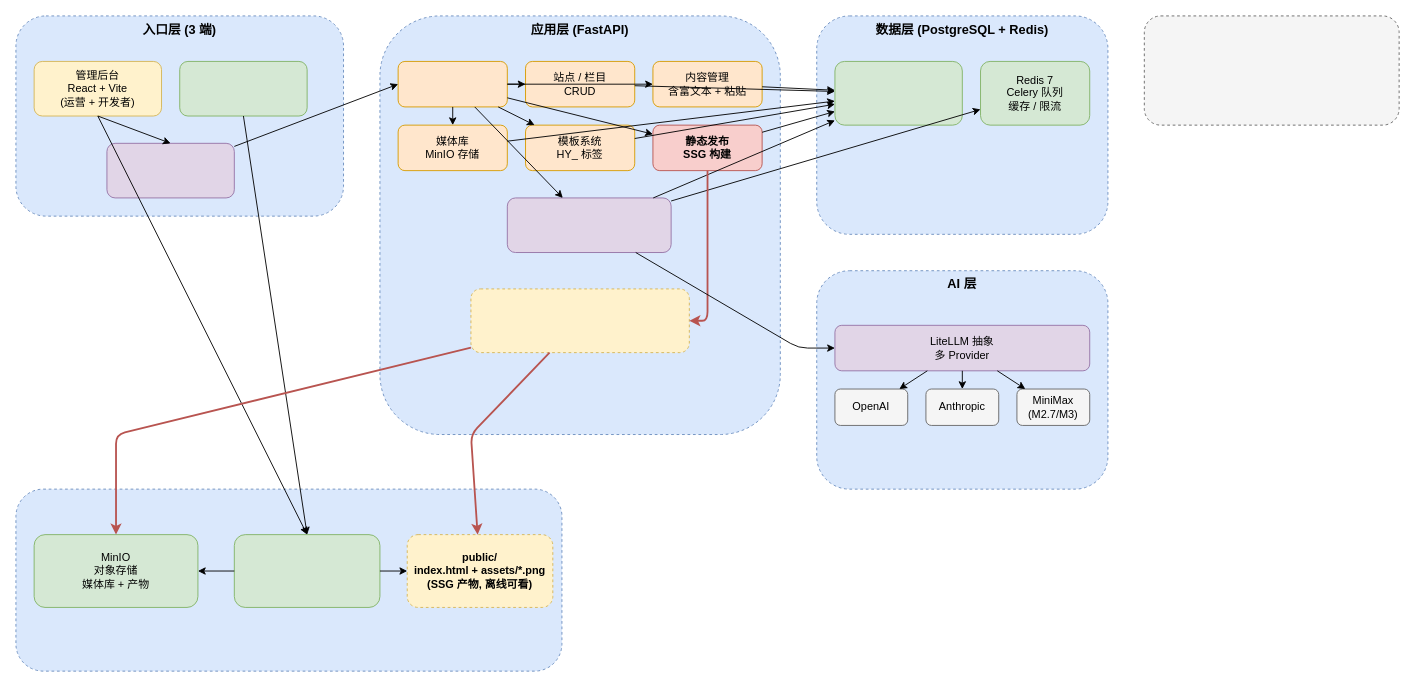
Some shapes in this 1415 by 687 pixel diagram are drawn without their labels. Each missing label, with the box of its shape:
AI 智能层 18 任务类型: (506, 197, 671, 253)
Nginx 反代 / 静态托管: (233, 534, 380, 607)
P3.9.5 关键: _inline_content_media() ↓ 拉图到 public/assets/: (470, 288, 689, 353)
PostgreSQL 16 31 张表 RLS 多租户: (834, 61, 962, 125)
REST API JWT Bearer: (106, 142, 234, 198)
公开站点 SSG 静态产物 (访客): (179, 61, 307, 116)
图例: 🟡 应用模块 🟢 数据存储 🟣 AI / 抽象 🔴 P3.9.5 关键路径: (1143, 15, 1399, 125)
资产层: (15, 488, 562, 671)
鉴权模块 JWT + RBAC: (397, 61, 507, 107)
